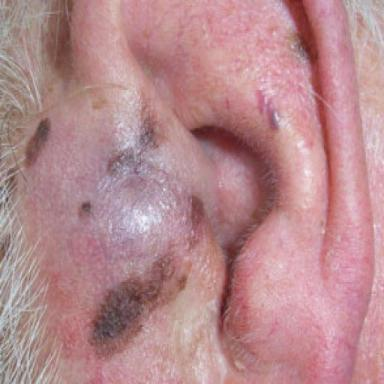Melanoma: (85, 193, 206, 359), (107, 89, 169, 178), (24, 117, 53, 170), (76, 201, 91, 220)
